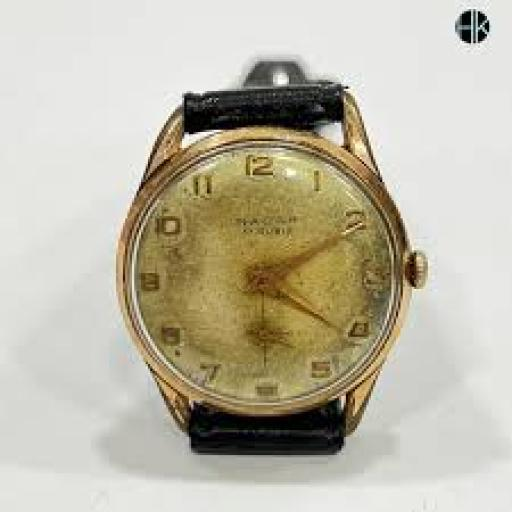KolSaati: (84, 30, 442, 495)
